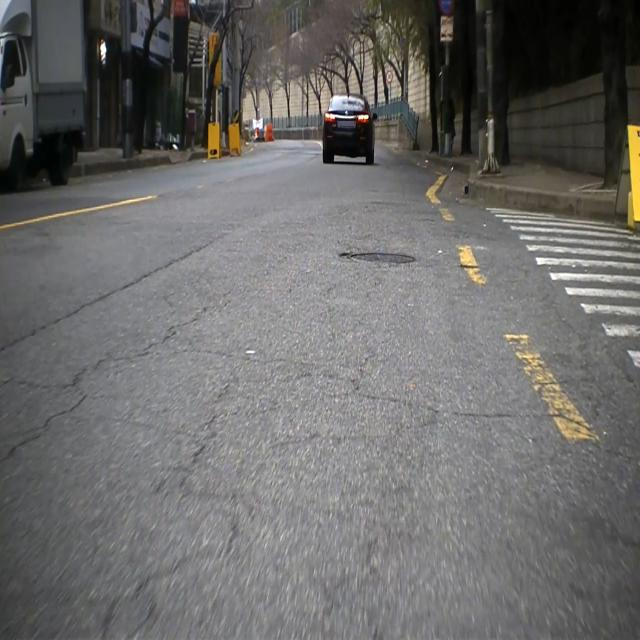Pothole: (329, 239, 429, 288)
